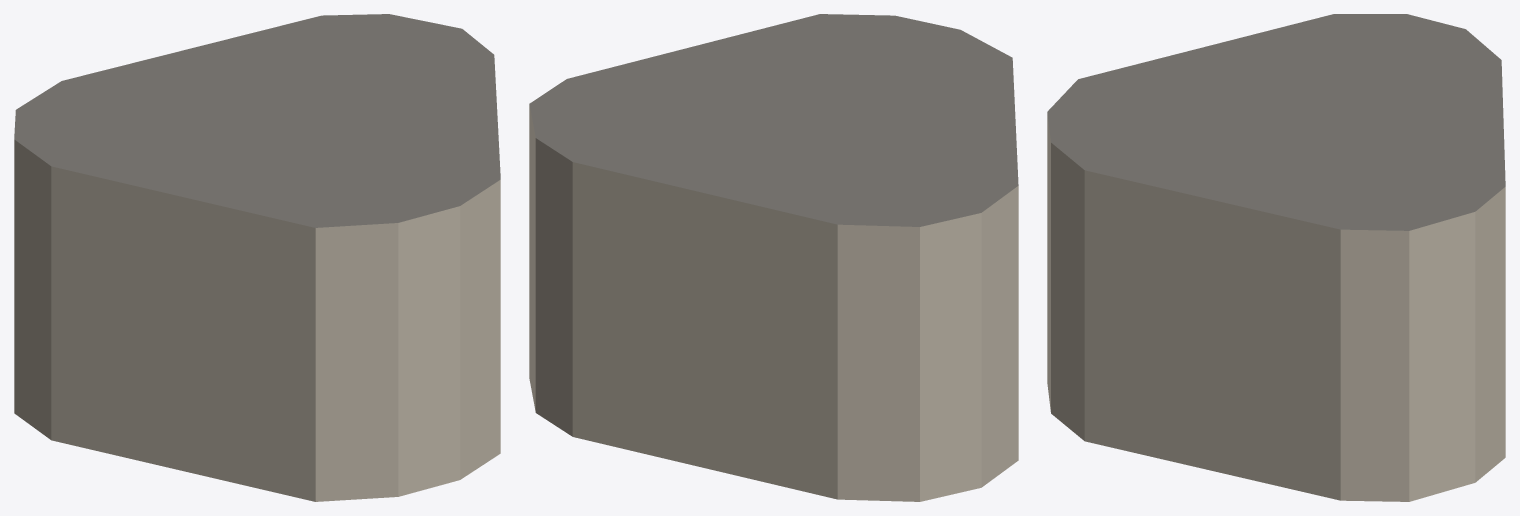
3 renders of one model, left to right at view 1: azimuth 30°, elevation 25°; view 2: azimuth 150°, elevation 25°; view 3: azimuth 270°, elevation 25°, orthographic.
Visible parts, largest first — view 1: HP-w299010050; view 2: HP-w299010050; view 3: HP-w299010050.
Part boxes in pixels (bbox=[...]): HP-w299010050: bbox=[14, 14, 500, 501]; HP-w299010050: bbox=[529, 14, 1018, 501]; HP-w299010050: bbox=[1047, 14, 1505, 501].
Size of the model in its own units: 30.89 by 18 by 27.59.
